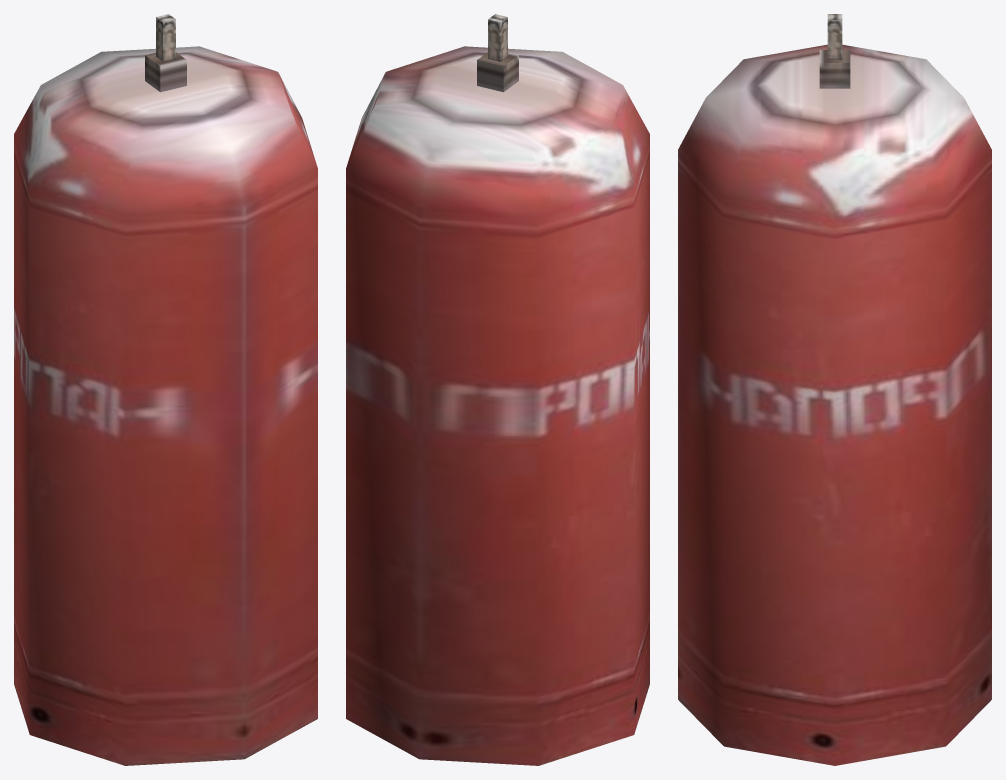
Rendered from gas tank.fbx.
The picture shows the model from 3 angles, left to right: view 1: azimuth 30°, elevation 25°; view 2: azimuth 150°, elevation 25°; view 3: azimuth 270°, elevation 25°; orthographic projection.
Visible parts, largest first — view 1: gas tank; view 2: gas tank; view 3: gas tank.
Boxes of the visible parts, bbox=[...] form: gas tank: bbox=[14, 14, 317, 765]; gas tank: bbox=[346, 14, 649, 765]; gas tank: bbox=[678, 14, 991, 765].
Bounding box in the file's own units: 200 × 480 × 200.
